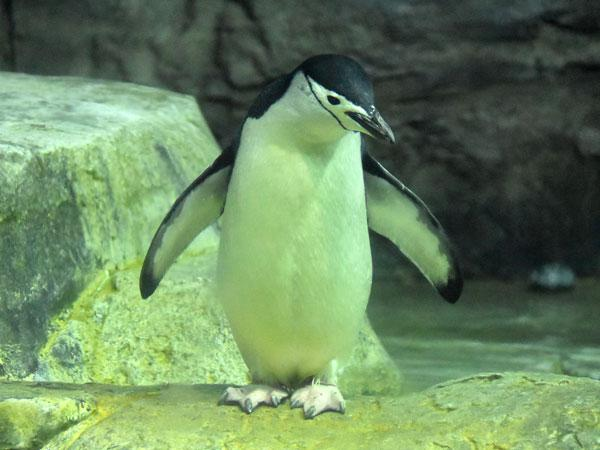chinstrap: (106, 51, 506, 420)
